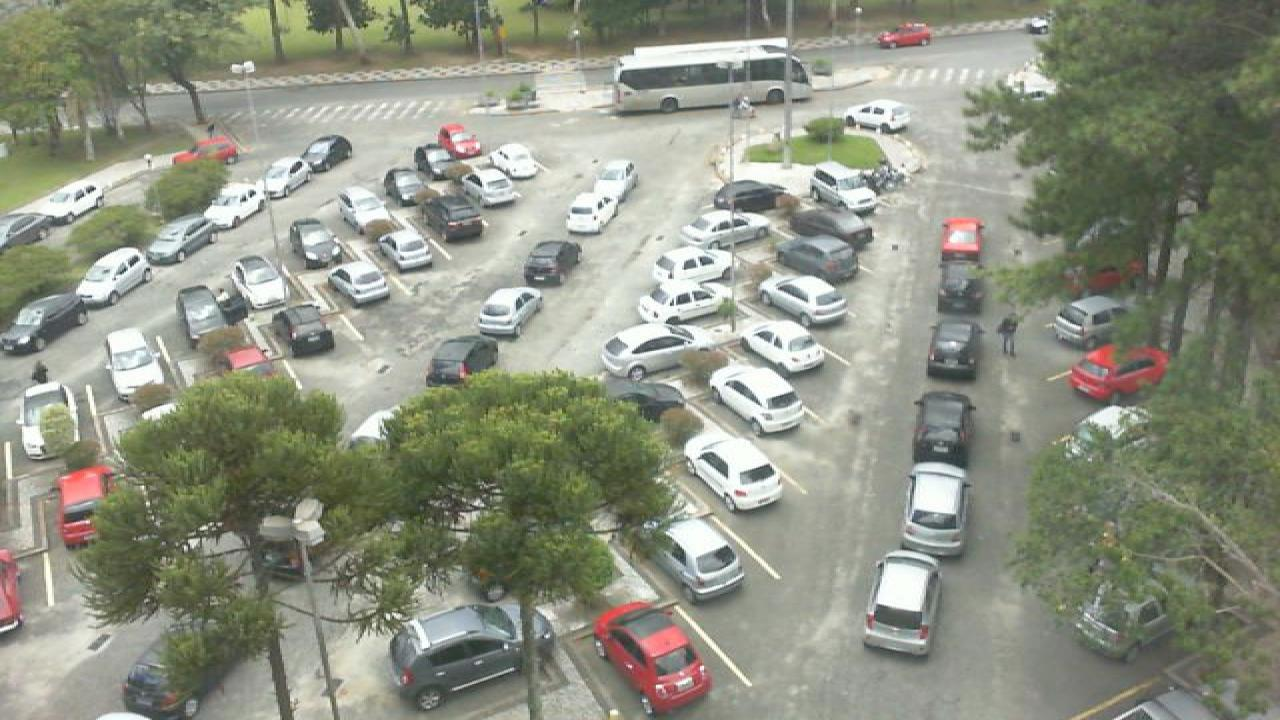Car: (388, 603, 522, 710), (594, 600, 712, 715), (1072, 572, 1174, 662), (644, 515, 746, 601), (860, 552, 942, 657), (682, 428, 786, 510), (896, 462, 972, 557), (706, 362, 806, 433), (1070, 339, 1172, 401), (598, 322, 698, 380), (0, 294, 88, 358), (52, 465, 116, 549), (734, 318, 828, 374), (758, 272, 850, 328), (910, 391, 976, 467), (74, 246, 154, 308), (634, 277, 734, 326), (14, 384, 78, 459), (1050, 294, 1130, 351), (774, 235, 862, 285), (596, 377, 688, 424), (422, 334, 502, 387), (142, 214, 218, 268), (922, 318, 986, 382), (102, 327, 162, 395), (472, 287, 546, 341), (650, 246, 732, 292), (680, 209, 770, 250), (274, 301, 338, 358), (794, 204, 876, 248), (174, 285, 236, 343), (200, 181, 268, 233), (810, 161, 882, 208), (32, 180, 106, 225), (232, 254, 290, 310), (520, 238, 584, 288), (326, 262, 392, 310), (420, 194, 488, 240), (288, 217, 344, 271), (710, 178, 790, 215), (934, 261, 988, 315), (460, 166, 520, 209), (218, 343, 278, 386), (564, 192, 622, 236), (378, 226, 434, 271), (0, 210, 56, 255), (338, 184, 392, 230), (844, 99, 914, 133), (258, 156, 312, 200), (382, 166, 434, 210), (940, 218, 986, 264), (172, 135, 240, 165), (432, 123, 484, 162), (588, 159, 638, 199), (490, 142, 542, 180), (300, 134, 352, 172), (412, 143, 460, 183)
